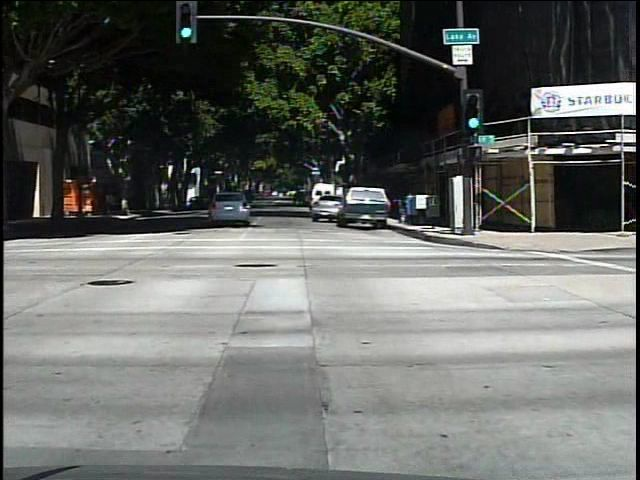person: (99, 185, 116, 220)
